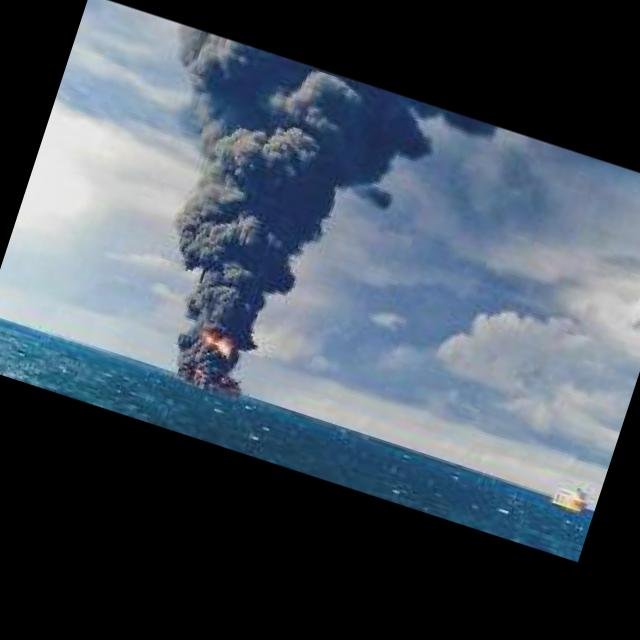fire: (198, 326, 235, 354), (551, 491, 584, 510)
smoke: (112, 23, 384, 358)
